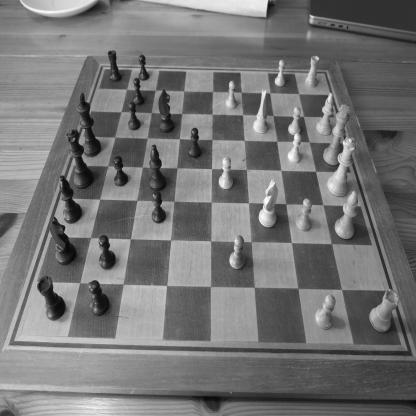black-bishop: (59, 174, 82, 224), (148, 144, 166, 192)
black-king: (76, 92, 102, 158)
black-knight: (50, 216, 76, 266), (158, 88, 174, 133)
black-pawn: (88, 280, 110, 317), (98, 235, 116, 271), (113, 156, 128, 188), (152, 190, 166, 224), (188, 127, 201, 159), (128, 101, 141, 132), (132, 78, 144, 107), (138, 55, 150, 82)
black-queen: (65, 128, 94, 191)
black-rook: (37, 275, 66, 321), (107, 50, 122, 82)
white-bishop: (334, 190, 358, 241), (315, 93, 334, 137)
white-king: (322, 104, 350, 167)
white-knight: (258, 178, 279, 228), (252, 89, 269, 134)
white-pawn: (314, 295, 336, 330), (295, 197, 312, 232), (229, 235, 246, 270), (218, 156, 234, 190), (287, 133, 302, 164), (225, 80, 238, 110), (288, 106, 301, 136), (274, 59, 286, 87)
white-queen: (327, 137, 357, 198)
white-rook: (368, 289, 400, 334), (304, 56, 320, 89)
